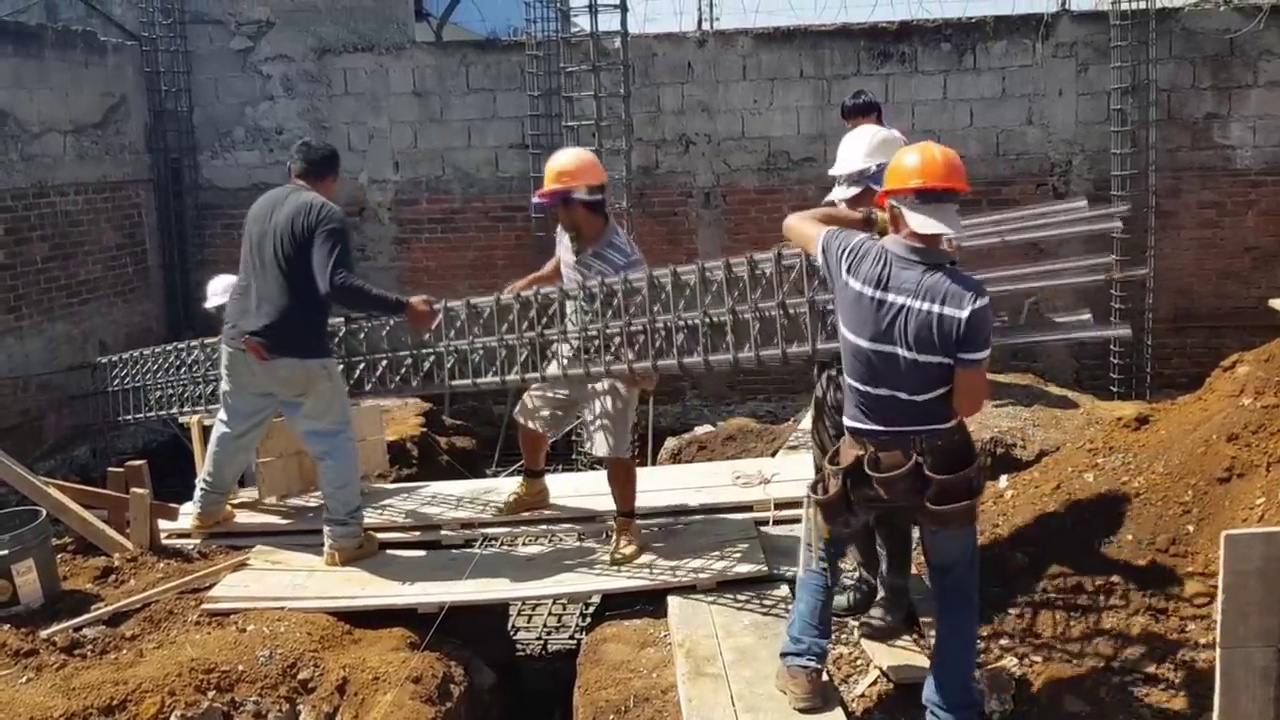helmet: (533, 146, 607, 198), (827, 130, 905, 177), (202, 273, 240, 312)
helmet-off: (285, 137, 343, 199), (840, 90, 883, 132)
helmet-on: (887, 139, 970, 251), (534, 145, 613, 251), (824, 129, 906, 212)
person: (780, 142, 996, 702), (190, 127, 432, 564), (503, 145, 647, 559)
